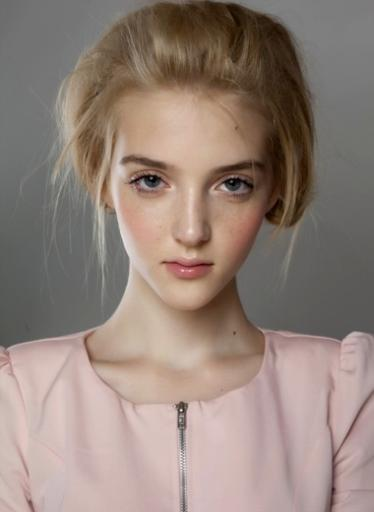left_eye: (212, 176, 257, 200)
left_lip_corner: (208, 260, 219, 272)
right_eye: (128, 173, 172, 197)
right_lip_corner: (160, 258, 172, 273)
